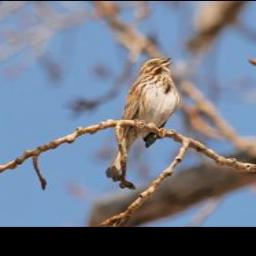Sparrow: (104, 54, 182, 183)
